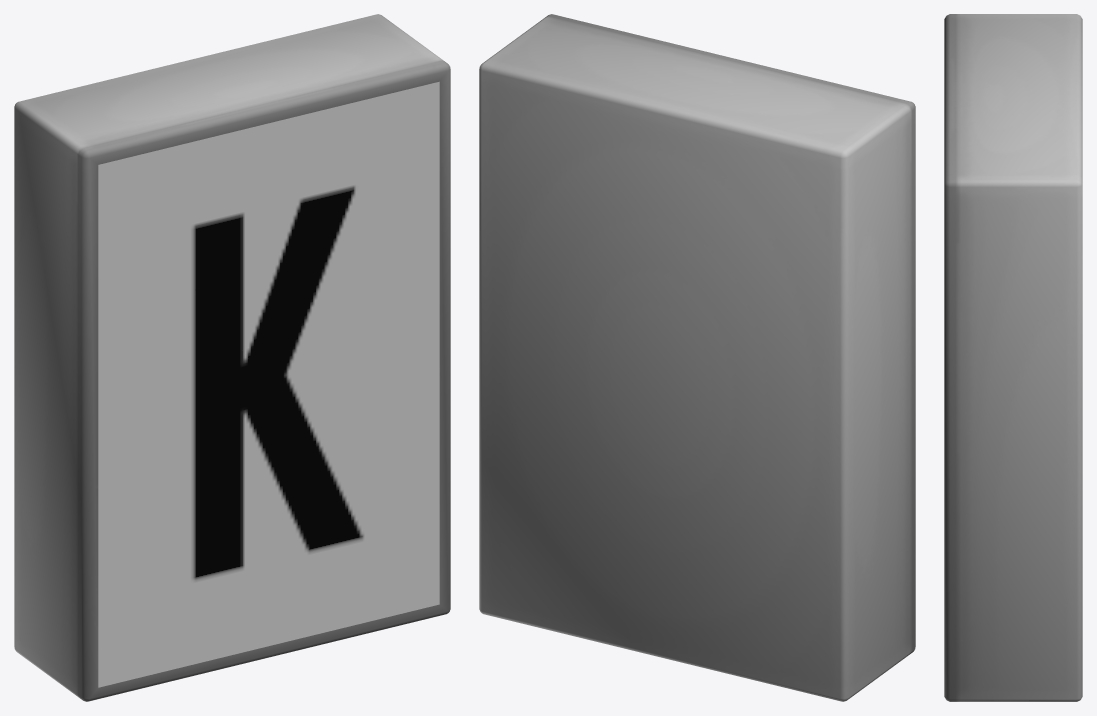
File: LettersLightBox01_K.FBX
3 renders of one model, left to right at view 1: azimuth 30°, elevation 25°; view 2: azimuth 150°, elevation 25°; view 3: azimuth 270°, elevation 25°, orthographic. The views are drawn at different scales.
Visible parts, largest first — view 1: LettersLightBox01_K; view 2: LettersLightBox01_K; view 3: LettersLightBox01_K.
Part boxes in pixels (box(x1,y1,x2,y2)): LettersLightBox01_K: box(14, 14, 450, 701); LettersLightBox01_K: box(479, 14, 915, 701); LettersLightBox01_K: box(944, 14, 1082, 701).
Size of what is drawn, in the model's own units: 0.35 by 0.5 by 0.12.
